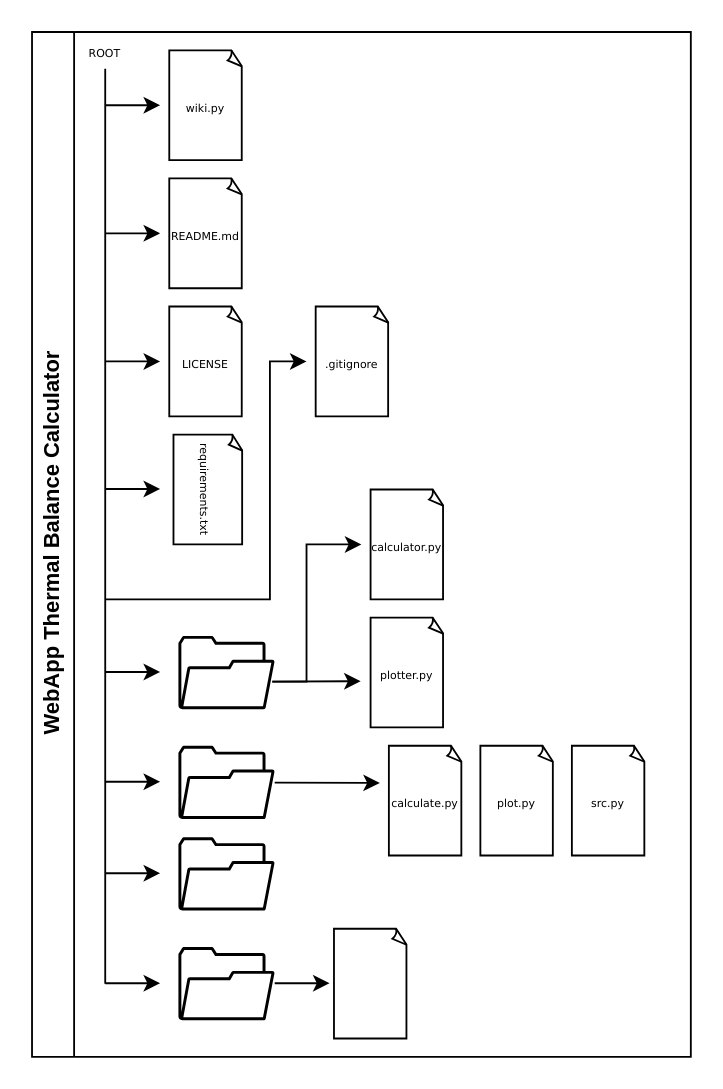
The diagram is 723 pixels wide and 1089 high, and some of its shapes have lost their labels. The centre of each missing label's shape, as x and y in pixels:
".streamlit" belongs at (226,982).
"cache" belongs at (226,873).
"config.toml" belongs at (369,983).
"pages" belongs at (226,671).
"utils" belongs at (226,781).
